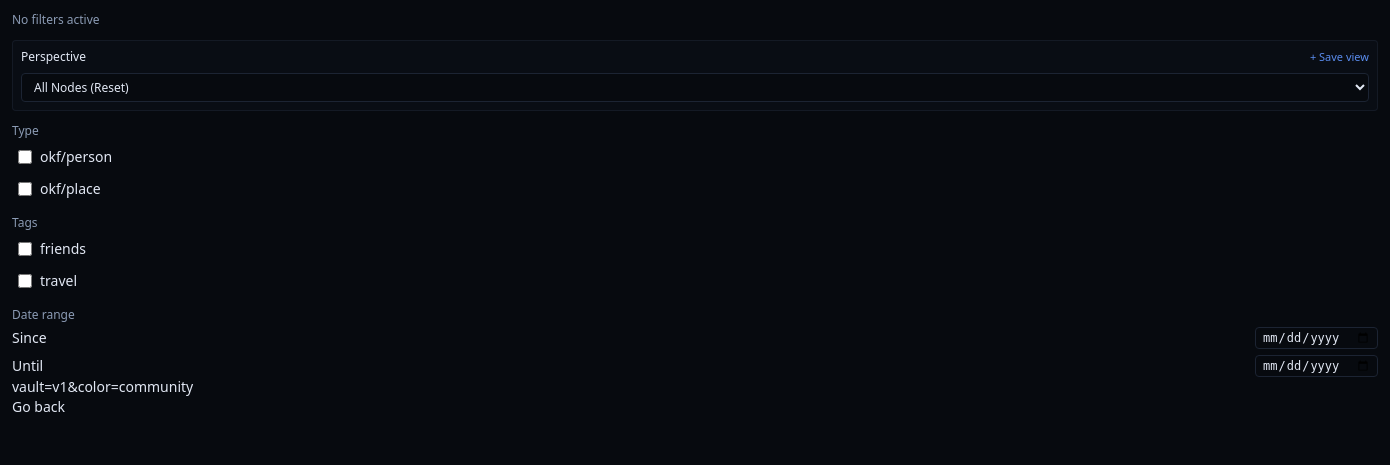
Test: GraphFilters › cleans up stale color param when applying a perspective without colorMode
The width and height of the screenshot is (1390, 465).
Select "No Color View" in the dropdown named "Graph perspective" at [695, 88], box [21,73,1369,102]
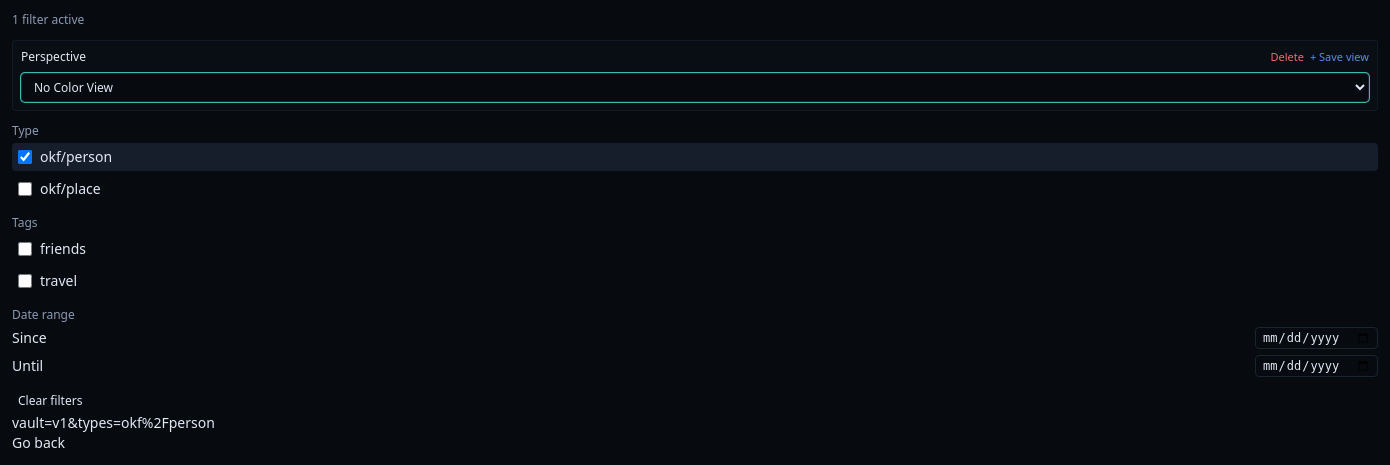
Now the text with test id "params" shows "types=okf%2Fperson", box [12,413,215,432]
Now the text with test id "params" no longer shows "color="
